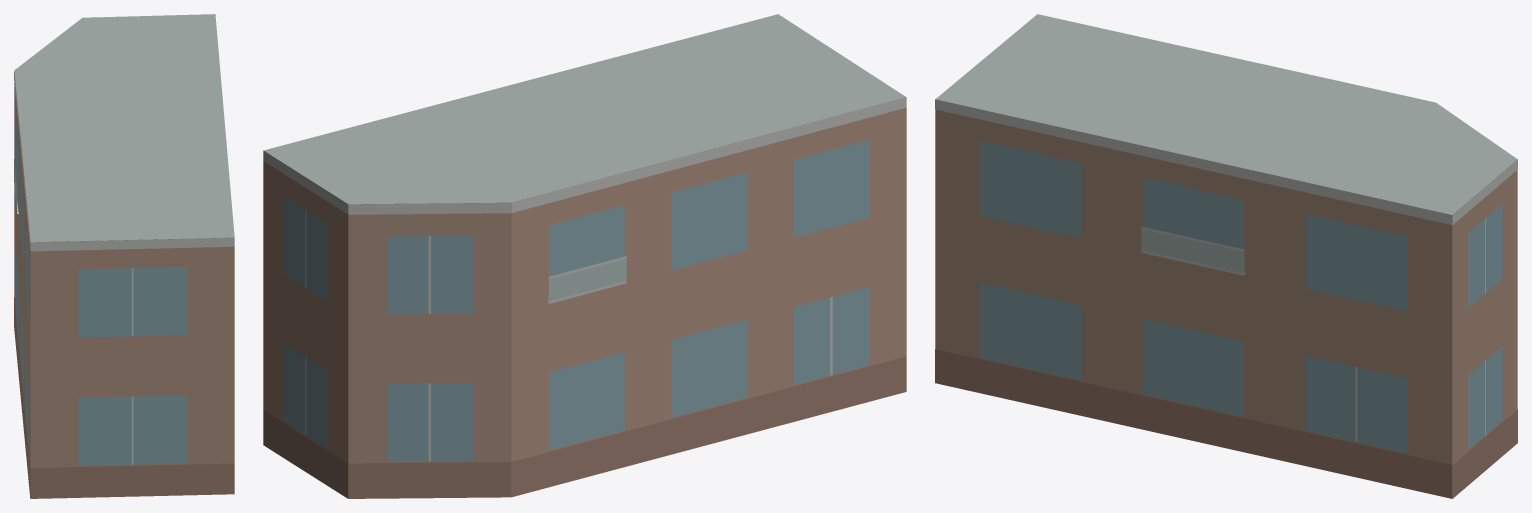
Rendered from survey-upis-32797140.glb.
3 views of the same model, side by side, from view 1: azimuth 30°, elevation 25°; view 2: azimuth 150°, elevation 25°; view 3: azimuth 270°, elevation 25° (orthographic). The views are drawn at different scales.
Parts seen in each view (by area): view 1: survey-upis-32797140.tmp; view 2: survey-upis-32797140.tmp; view 3: survey-upis-32797140.tmp.
Boxes of the visible parts, box(x1,y1,x2,y2) form: survey-upis-32797140.tmp: box(14, 14, 234, 498); survey-upis-32797140.tmp: box(263, 14, 906, 498); survey-upis-32797140.tmp: box(935, 14, 1517, 498).
Size of the model in its own units: 10.34 by 6.8 by 12.66.
